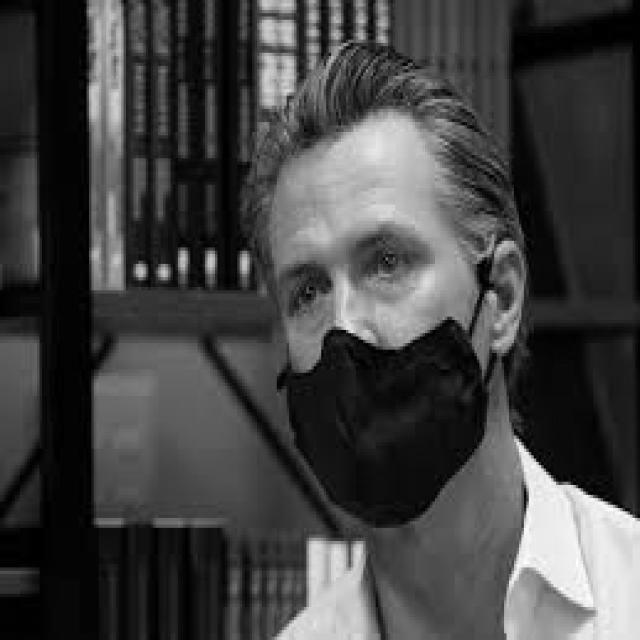fake: (274, 318, 493, 529)
real: (277, 114, 494, 535)
